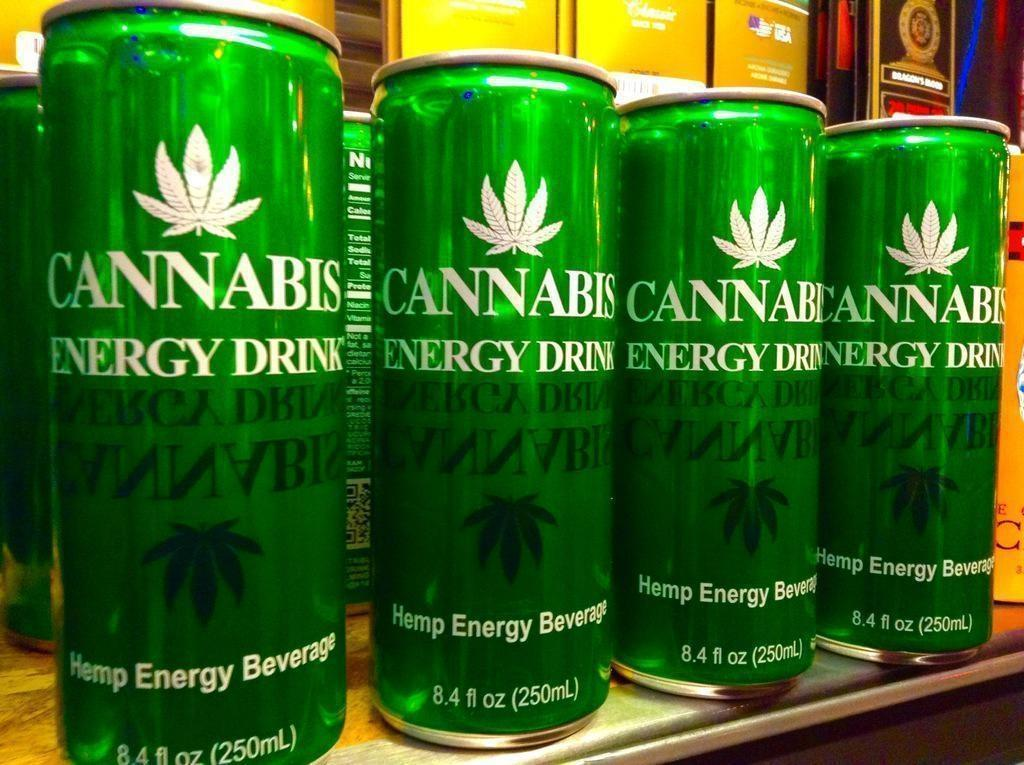tin can: (29, 1, 353, 764), (358, 53, 629, 748), (613, 85, 829, 696), (808, 111, 1023, 668)
